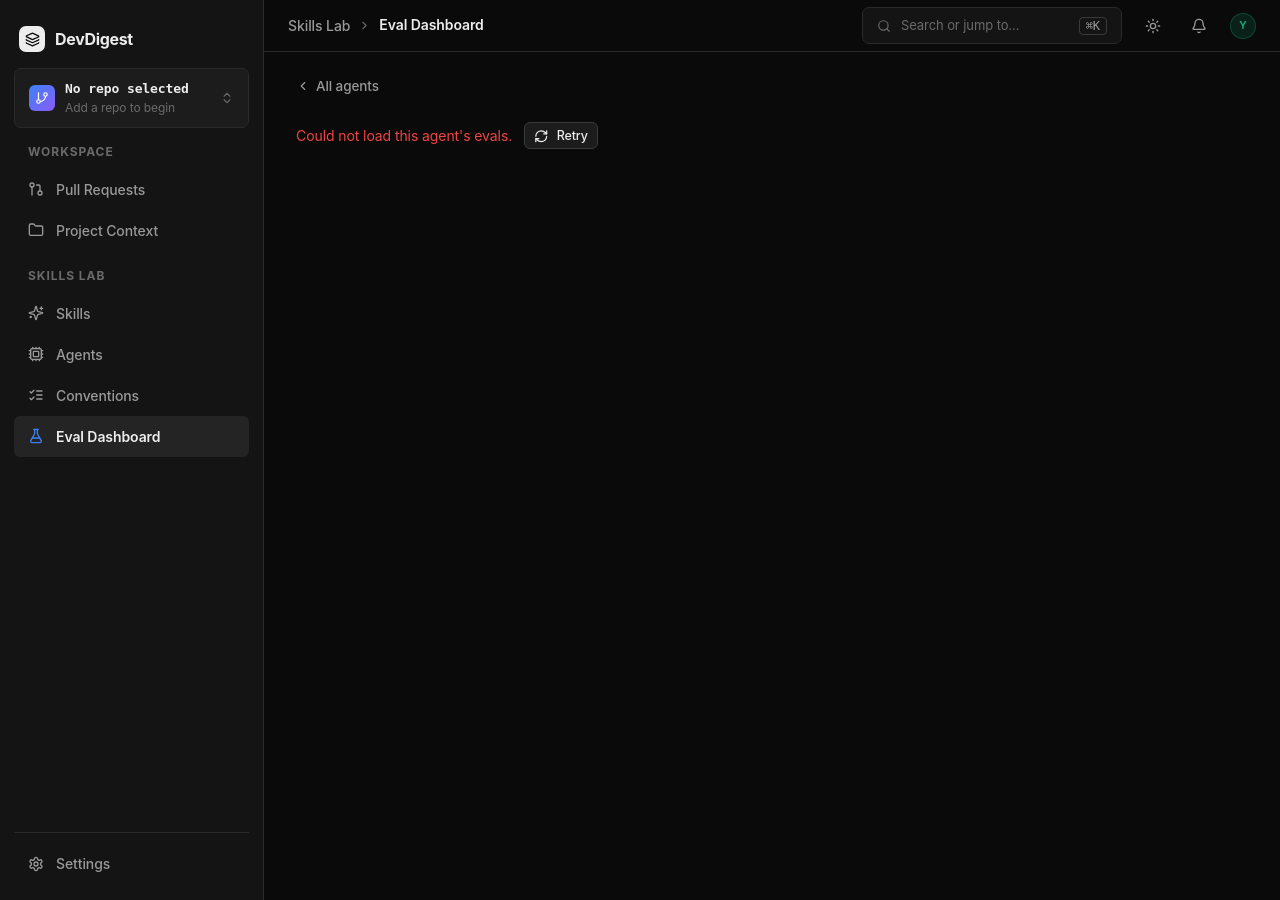
Scenario: AgentEvalView › says the agent's evals could not be loaded and retries the agent read
expect the message shows "Could not load this agent's evals.": met, box [296,127,512,144]
Click the button "Retry" at point(561, 136), box [524,122,598,149]
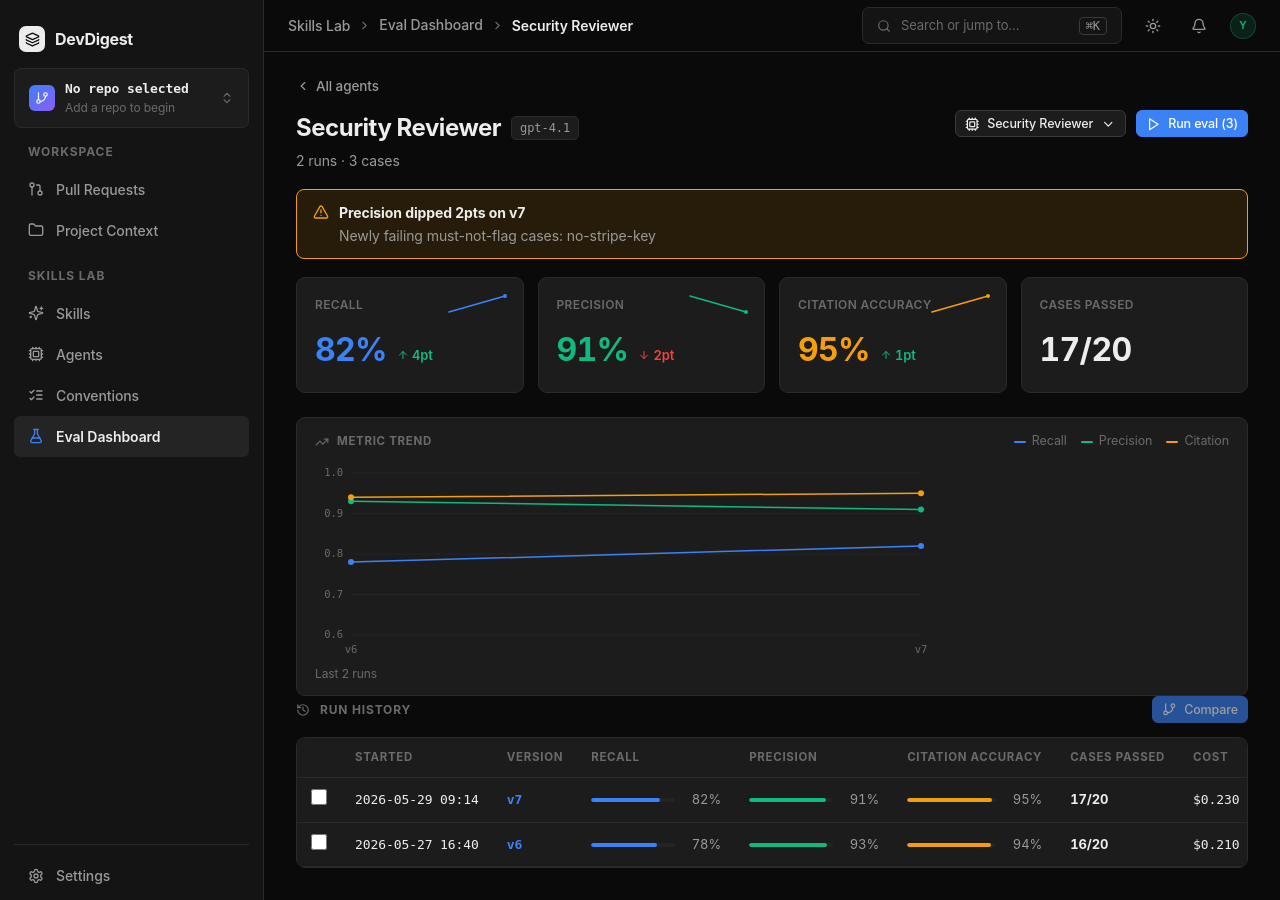
expect the heading "Security Reviewer" is shown: met, box [296,110,501,146]
